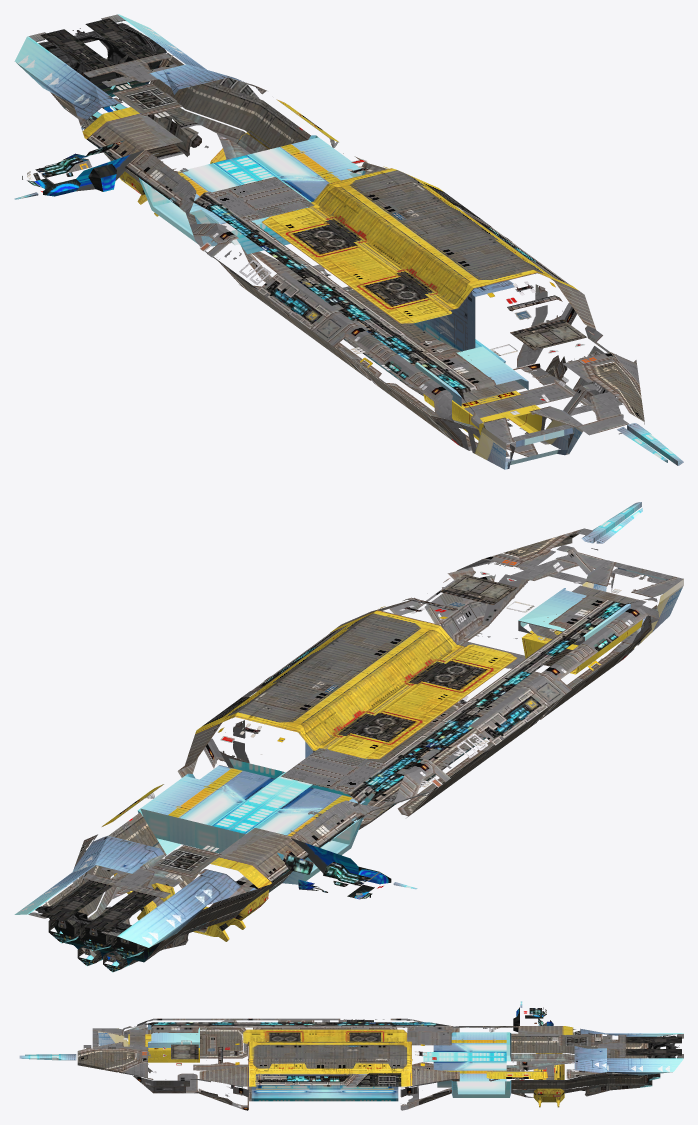
Rendered from LOD1-UVFlip.obj.
3 renders of one model, top to bottom at view 1: azimuth 30°, elevation 25°; view 2: azimuth 150°, elevation 25°; view 3: azimuth 270°, elevation 25°, orthographic. The views are drawn at different scales.
Parts seen in each view (by area): view 1: Hgn_Carrier_Main_TEX, Hgn_Carrier_Engine_TEX, Hgn_Carrier_Badge; view 2: Hgn_Carrier_Main_TEX, Hgn_Carrier_Engine_TEX, Hgn_Carrier_Badge, Hgn_C_Innate_Resource_TEX; view 3: Hgn_Carrier_Main_TEX, Hgn_Carrier_Badge, Hgn_Carrier_Engine_TEX, Hgn_C_Innate_Resource_TEX.
Part boxes in pixels (x1,y1,x2,y2): Hgn_Carrier_Main_TEX: (14,14,683,469); Hgn_Carrier_Engine_TEX: (22,14,166,196); Hgn_Carrier_Badge: (208,177,314,221); Hgn_Carrier_Main_TEX: (14,502,683,972); Hgn_Carrier_Engine_TEX: (28,838,391,971); Hgn_Carrier_Badge: (281,748,386,792); Hgn_C_Innate_Resource_TEX: (114,864,268,941); Hgn_Carrier_Main_TEX: (19,1001,683,1110); Hgn_Carrier_Badge: (407,1026,451,1045); Hgn_Carrier_Engine_TEX: (513,1007,683,1084); Hgn_C_Innate_Resource_TEX: (533,1053,564,1107).
Bounding box in the file's own units: 242 × 73.23 × 770.
